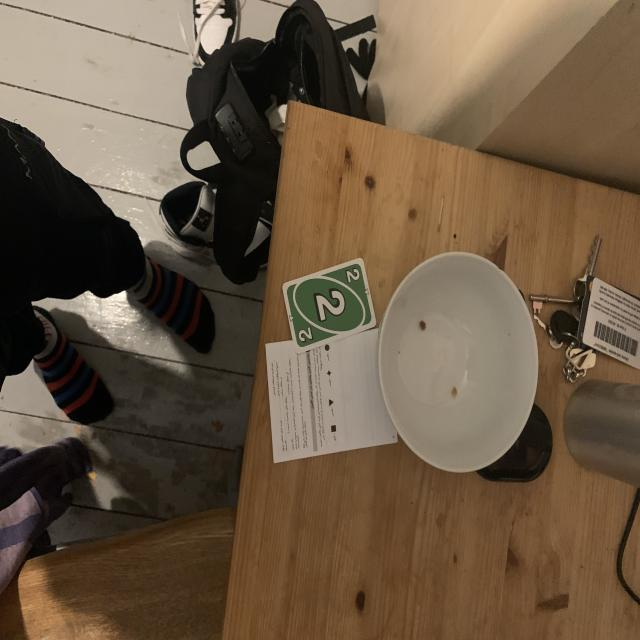lgreen-2: (342, 266, 362, 288)
